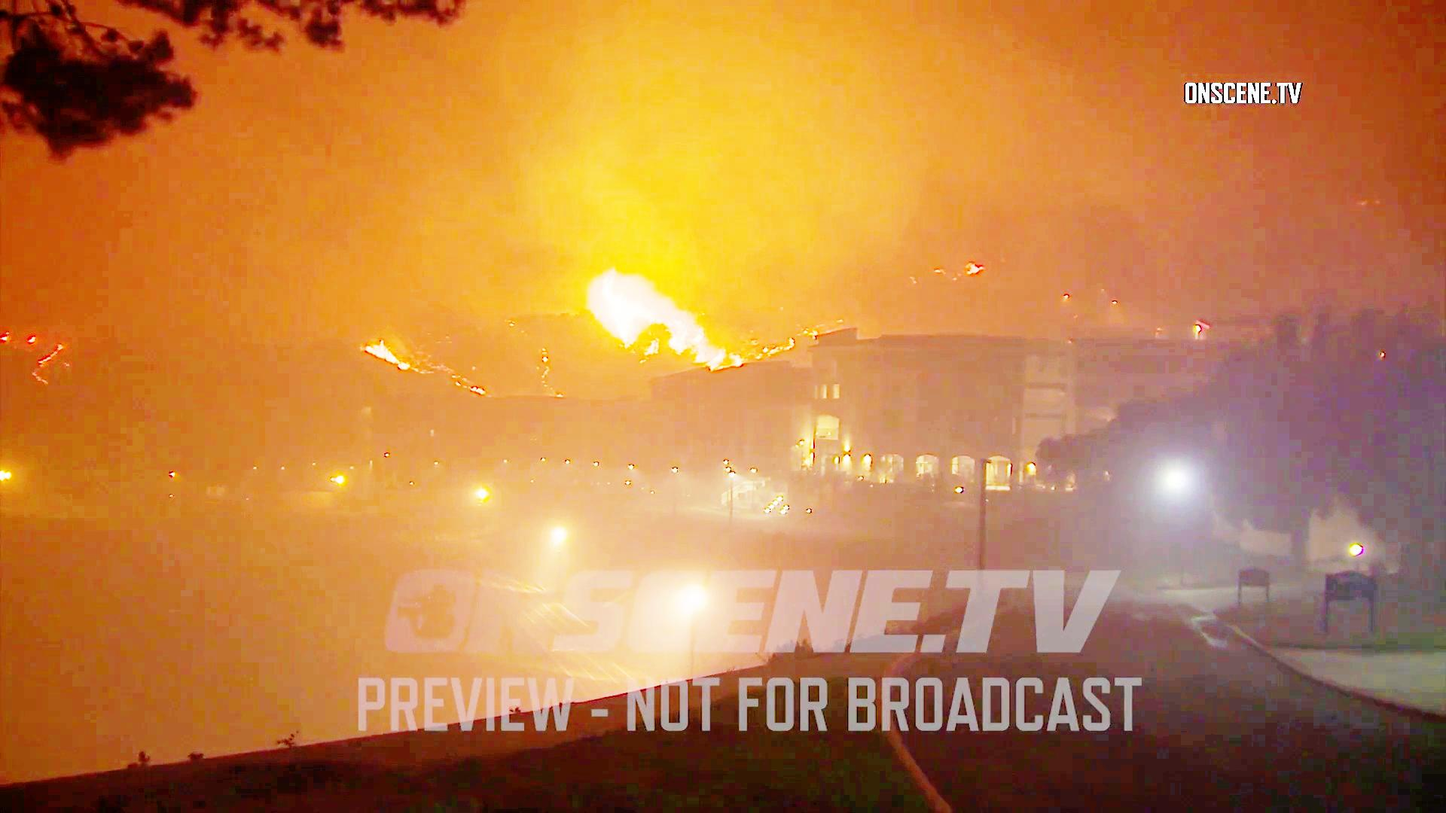fire: (601, 285, 648, 341)
